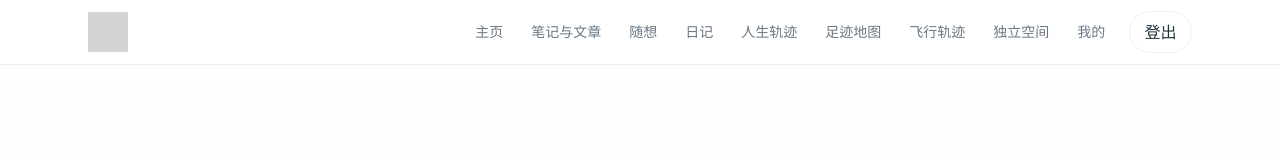
PublicHeader session state › clicking 登出 ends the session
The width and height of the screenshot is (1280, 160).
Click the button "登出". click: (1161, 32)
box: [1129,11,1192,53]
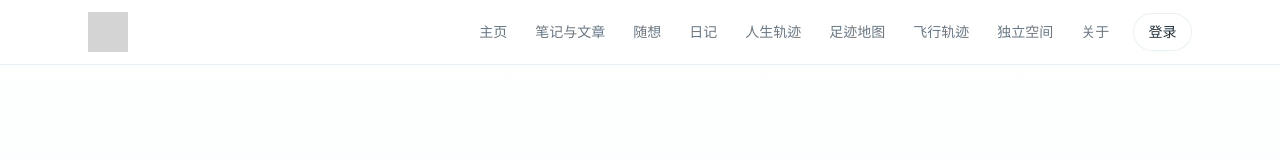
Expected: the link "登录" is shown, [1133,13,1192,51]
